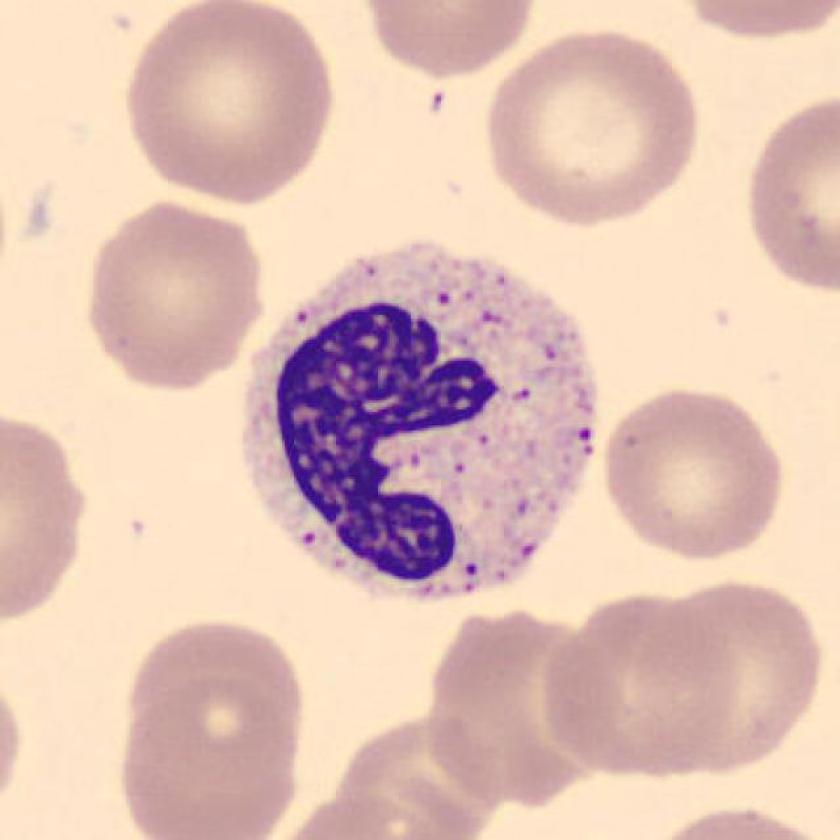neutrophil: (245, 245, 593, 602)
